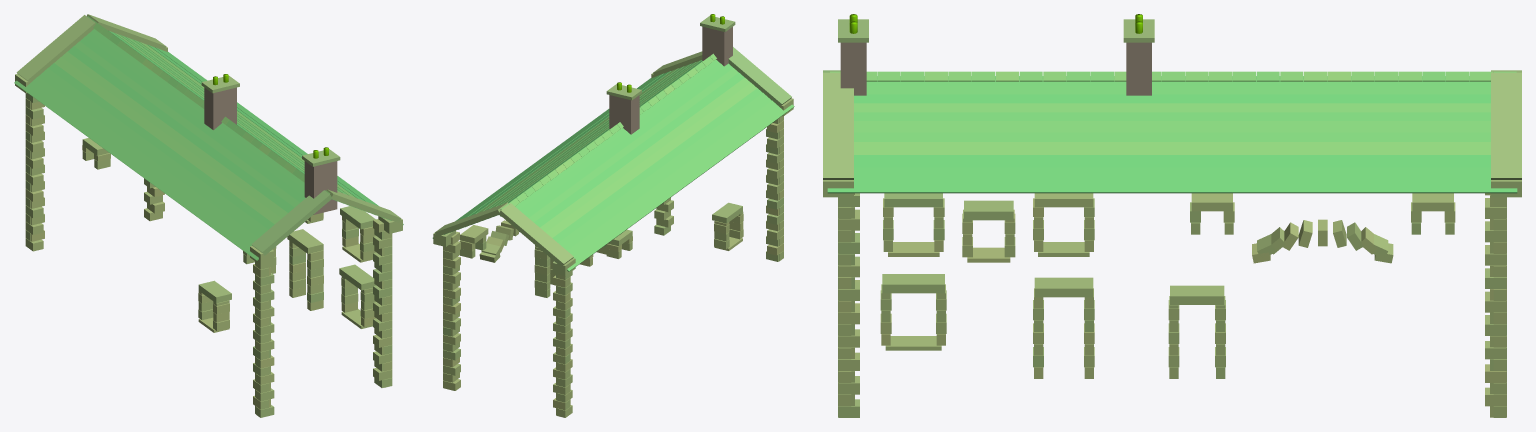
The model's file is SM_Bld_104_Stone.glb.
The picture shows the model from 3 angles, left to right: view 1: azimuth 30°, elevation 25°; view 2: azimuth 150°, elevation 25°; view 3: azimuth 270°, elevation 25°; orthographic projection. The views are drawn at different scales.
Visible parts, largest first — view 1: SM_Bld_104_Stone; view 2: SM_Bld_104_Stone; view 3: SM_Bld_104_Stone.
Boxes of the visible parts, x1,y1,x2,y2 form: SM_Bld_104_Stone: [14, 14, 403, 417]; SM_Bld_104_Stone: [432, 14, 794, 417]; SM_Bld_104_Stone: [823, 14, 1521, 417].
Bounding box in the file's own units: 5.61 × 9.04 × 16.22.
